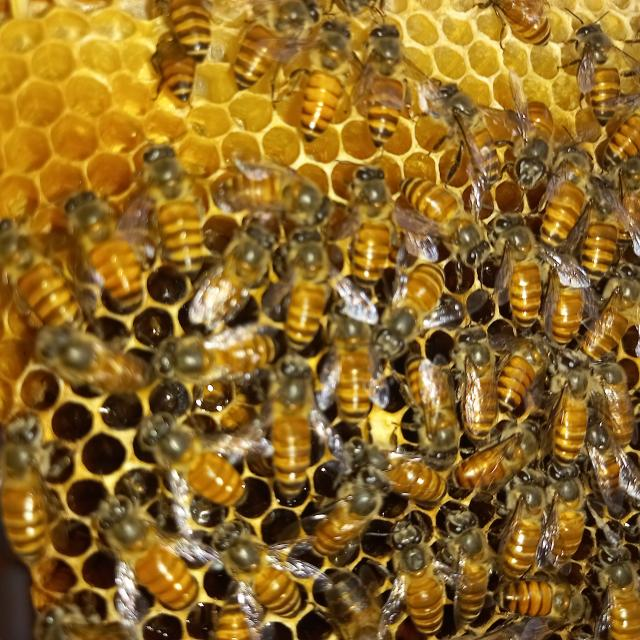honeybee: (96, 492, 196, 617), (139, 408, 248, 507), (0, 218, 82, 330), (140, 144, 208, 274), (71, 192, 145, 310), (0, 412, 52, 576), (430, 76, 504, 188), (232, 0, 319, 94), (217, 526, 305, 618), (196, 223, 272, 326), (308, 467, 387, 564), (36, 325, 153, 389), (443, 504, 498, 639), (270, 354, 318, 506), (300, 14, 353, 144), (406, 177, 486, 263), (387, 522, 445, 640), (216, 154, 332, 212), (382, 258, 446, 363), (345, 164, 396, 294), (158, 328, 277, 379), (548, 350, 599, 469), (328, 303, 376, 428), (456, 432, 548, 495), (284, 228, 332, 348), (570, 17, 623, 122), (584, 260, 640, 358), (403, 353, 457, 454), (491, 213, 544, 314), (366, 22, 407, 147), (499, 575, 587, 633), (456, 322, 501, 433), (582, 170, 628, 275), (318, 572, 387, 640), (595, 542, 640, 640), (490, 331, 536, 424), (372, 448, 446, 504), (546, 144, 586, 244), (552, 480, 595, 572), (499, 474, 544, 561), (516, 88, 551, 197), (589, 433, 632, 521), (478, 0, 552, 50), (32, 605, 135, 640), (544, 249, 580, 347), (597, 362, 639, 444), (150, 39, 195, 107), (600, 104, 640, 172), (171, 0, 212, 63), (213, 596, 251, 640)
